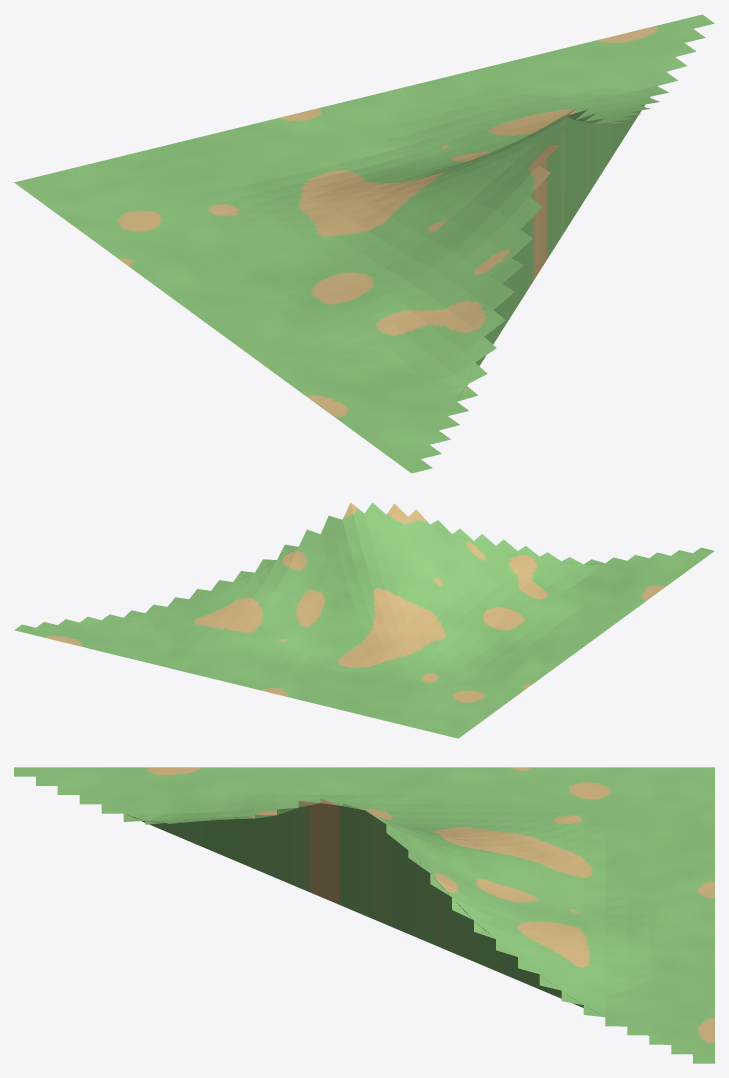
The model's file is Grass_Hills_05_SW.obj.
The picture shows the model from 3 angles, top to bottom: view 1: azimuth 30°, elevation 25°; view 2: azimuth 150°, elevation 25°; view 3: azimuth 270°, elevation 25°; orthographic projection. The views are drawn at different scales.
Size of the model in its own units: 10 by 1.83 by 10.
1 material, 1 textured.
